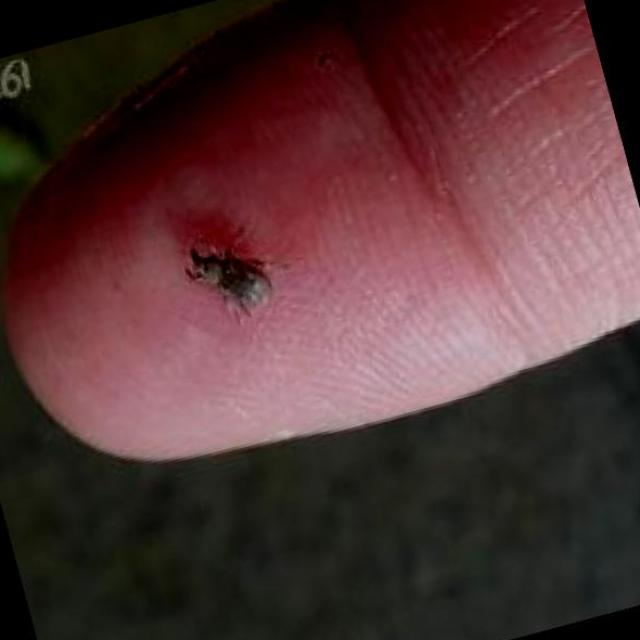ricebug: (188, 251, 272, 315)
